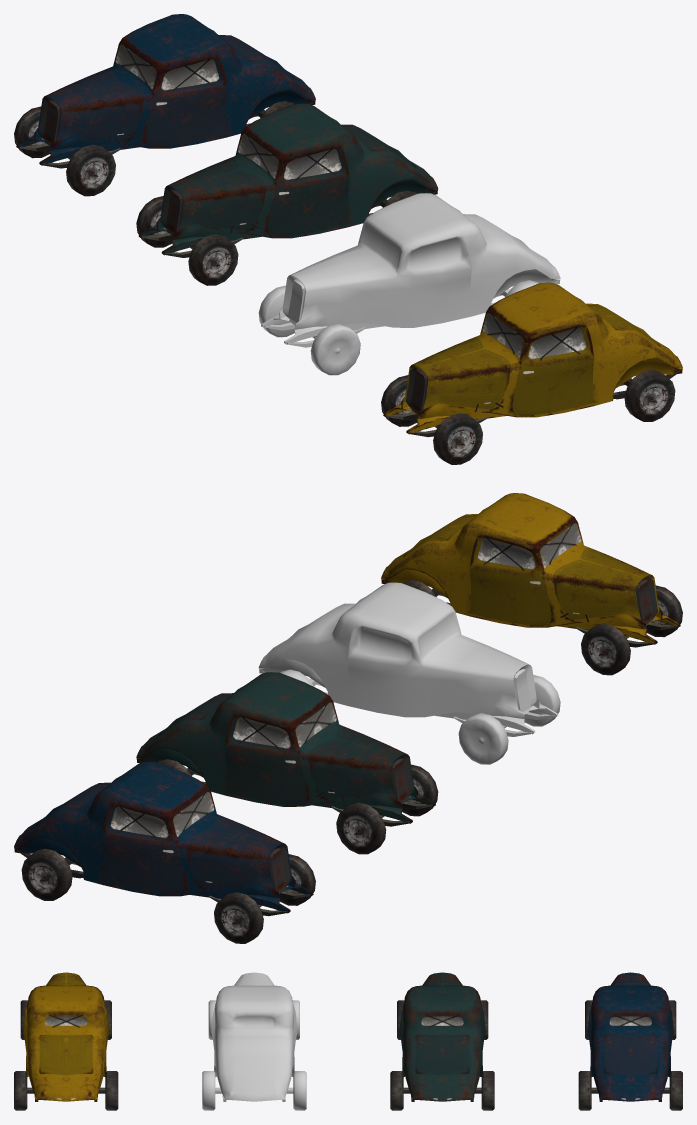
Rendered from rustcar_32coupe.fbx.
3 views of the same model, one above another, from view 1: azimuth 30°, elevation 25°; view 2: azimuth 150°, elevation 25°; view 3: azimuth 270°, elevation 25° (orthographic). The views are drawn at different scales.
Parts seen in each view (by area): view 1: rustcar_32coupe_yellow, rustcar_32coupe_green, rustcar_32coupe_red, rustcar_32coupe_blue; view 2: rustcar_32coupe_blue, rustcar_32coupe_red, rustcar_32coupe_green, rustcar_32coupe_yellow; view 3: rustcar_32coupe_yellow, rustcar_32coupe_blue, rustcar_32coupe_green, rustcar_32coupe_red.
Boxes of the visible parts, x1,y1,x2,y2 form: rustcar_32coupe_yellow: (381,282,682,464); rustcar_32coupe_green: (136,103,438,285); rustcar_32coupe_red: (258,193,560,375); rustcar_32coupe_blue: (14,14,315,196); rustcar_32coupe_blue: (14,761,315,943); rustcar_32coupe_red: (258,582,560,764); rustcar_32coupe_green: (136,672,438,854); rustcar_32coupe_yellow: (381,493,682,675); rustcar_32coupe_yellow: (14,972,118,1110); rustcar_32coupe_blue: (578,972,682,1110); rustcar_32coupe_green: (390,972,494,1110); rustcar_32coupe_red: (202,972,306,1110).
Bounding box in the file's own units: 389 × 1067 × 154.
